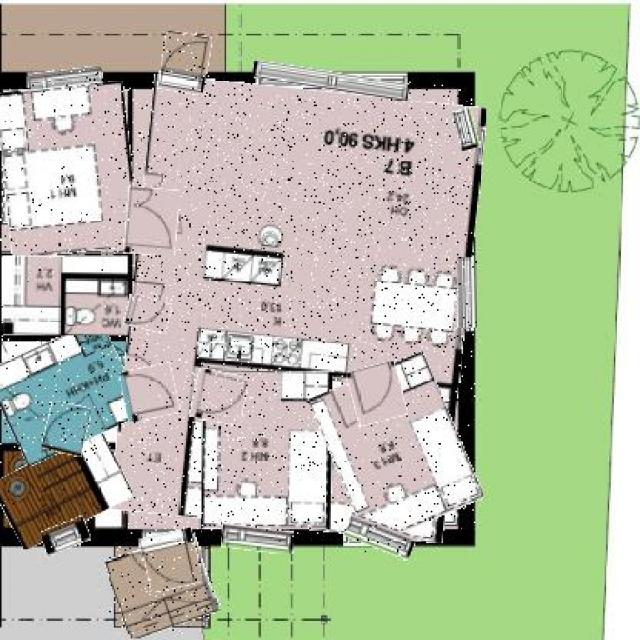door: (124, 188, 178, 254), (349, 363, 405, 425), (143, 531, 200, 591), (122, 363, 178, 420), (160, 32, 209, 94), (192, 369, 246, 425), (43, 403, 89, 455), (124, 296, 170, 332)
window: (252, 66, 410, 95), (344, 518, 414, 556), (221, 526, 294, 552), (29, 69, 103, 91), (43, 520, 89, 552), (457, 257, 477, 328), (456, 109, 478, 149)
zone: (120, 82, 475, 536), (322, 360, 471, 537), (0, 83, 134, 255), (203, 371, 332, 529), (0, 329, 135, 453), (0, 438, 128, 537), (111, 540, 215, 635), (3, 257, 128, 335)
